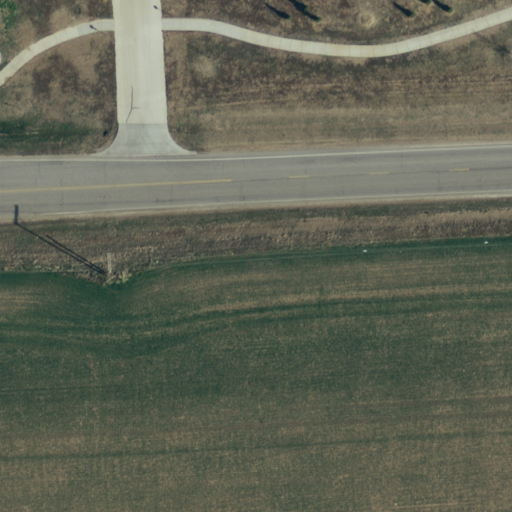DT: (95, 249, 120, 286)
